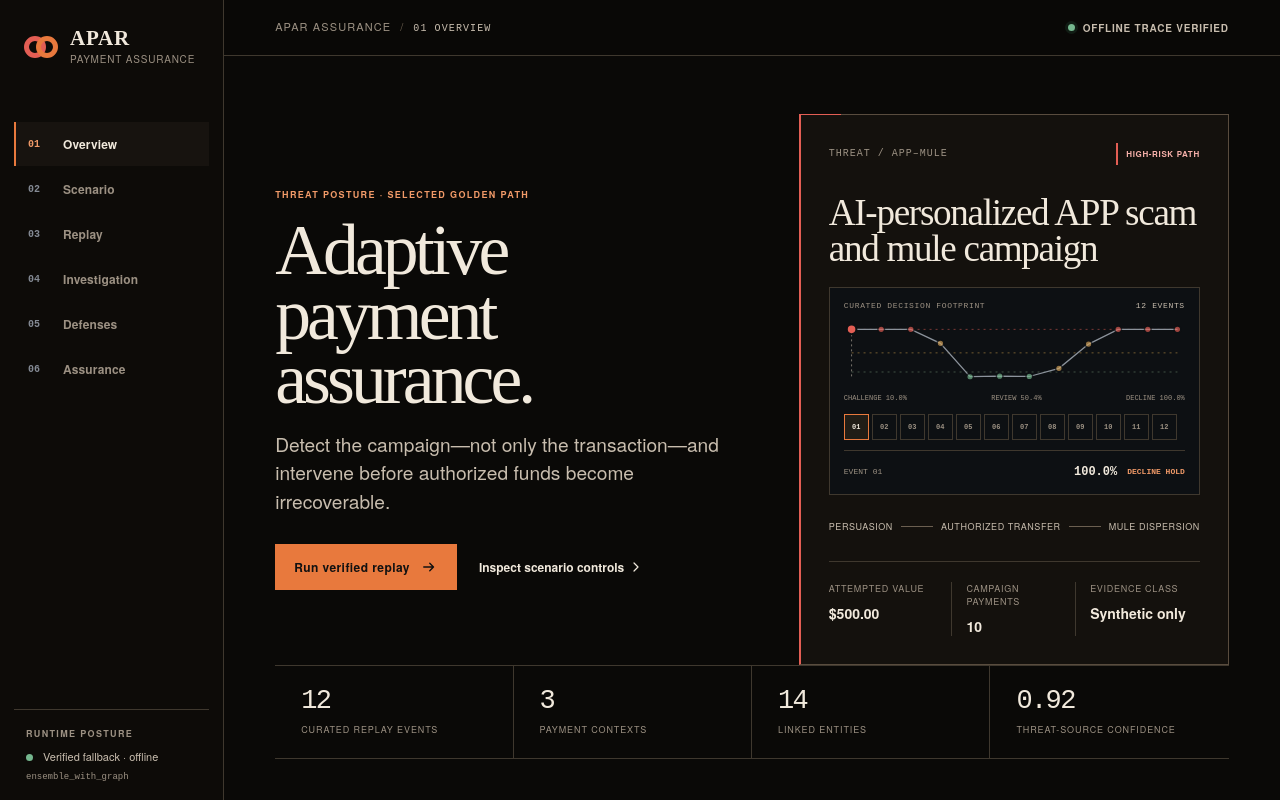
Test: native route boundary › focuses defense arms with the graph ensemble selected by default
Click the link "05 Defenses" at (73, 324), box [28,315,117,333]
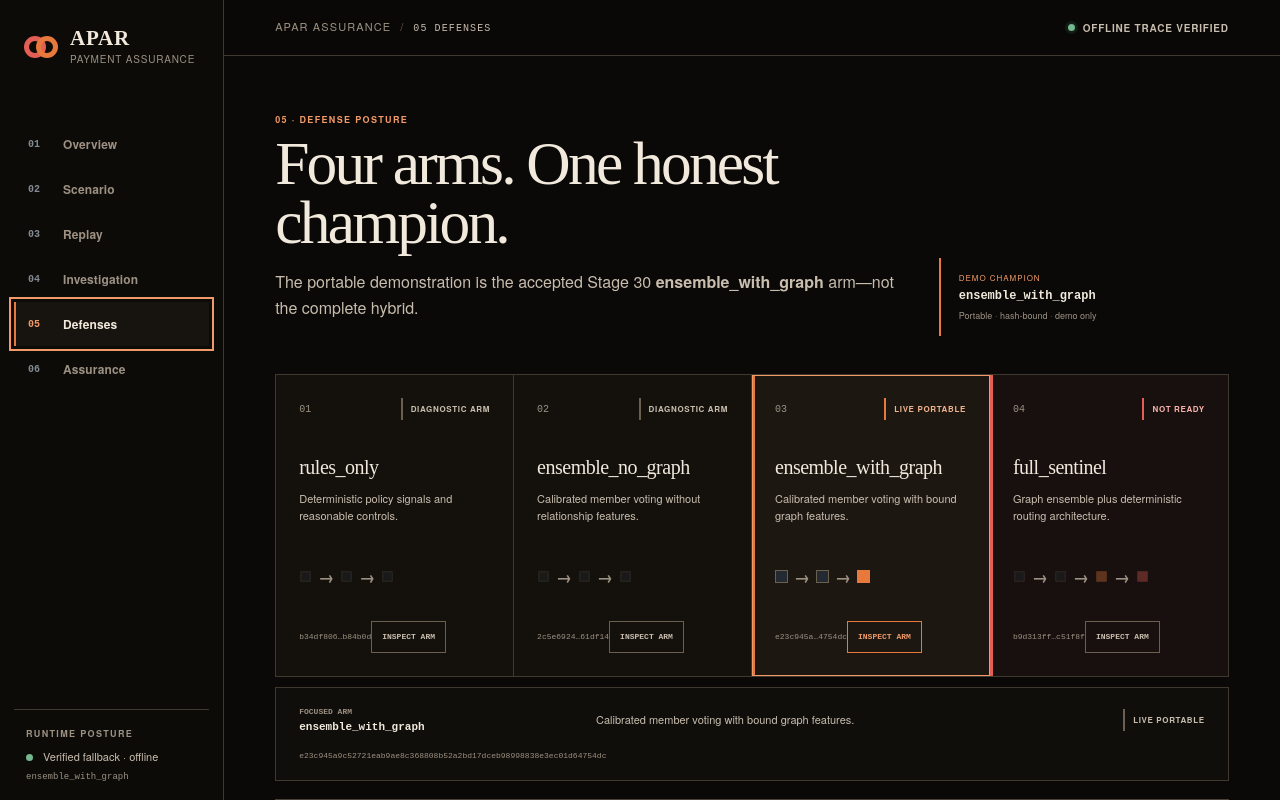
Click the button with aria-label "Focus rules_only architecture" at (409, 637), box [371,621,446,653]
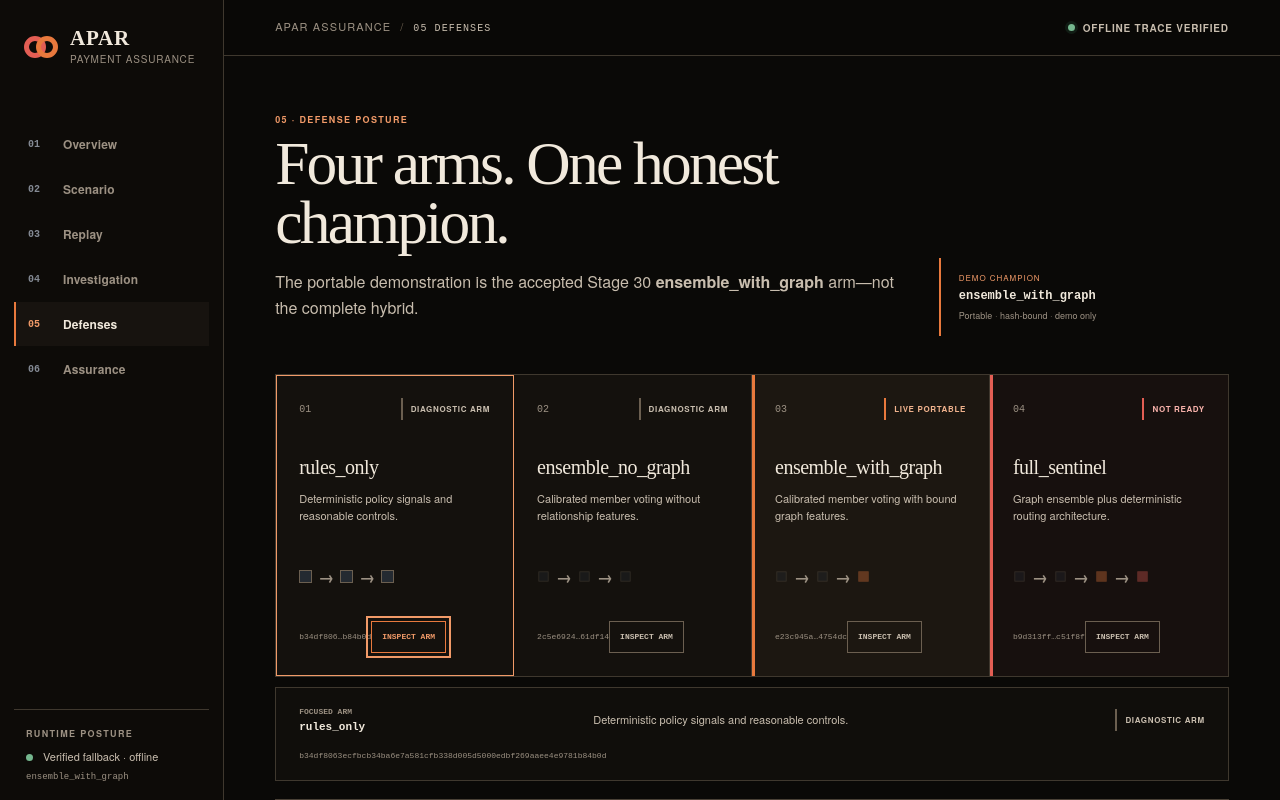
Expected: the text "rules_only" is shown, [299,721,365,733]
Expected: the text "b34df8063ecfbcb34ba6e7a581cfb338d005d5000edbf269aaee4e9781b84b0d" is shown, [299,751,606,760]
